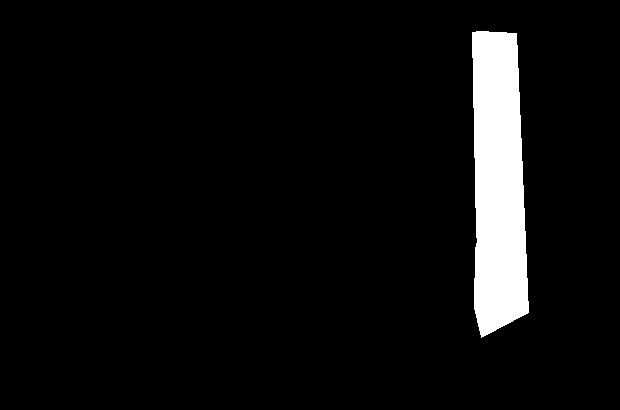type3s: (468, 27, 532, 342)
